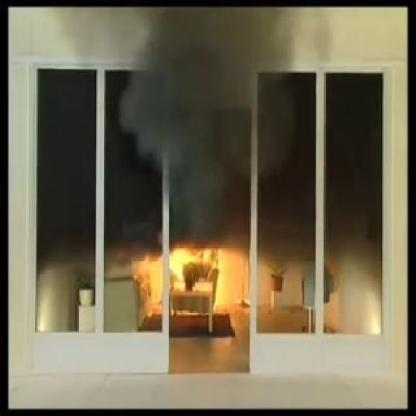Fire: (160, 242, 220, 312)
Smoke: (119, 4, 294, 233)
